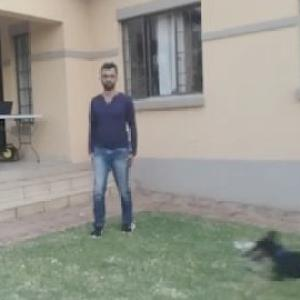follow: (99, 72, 150, 226)
